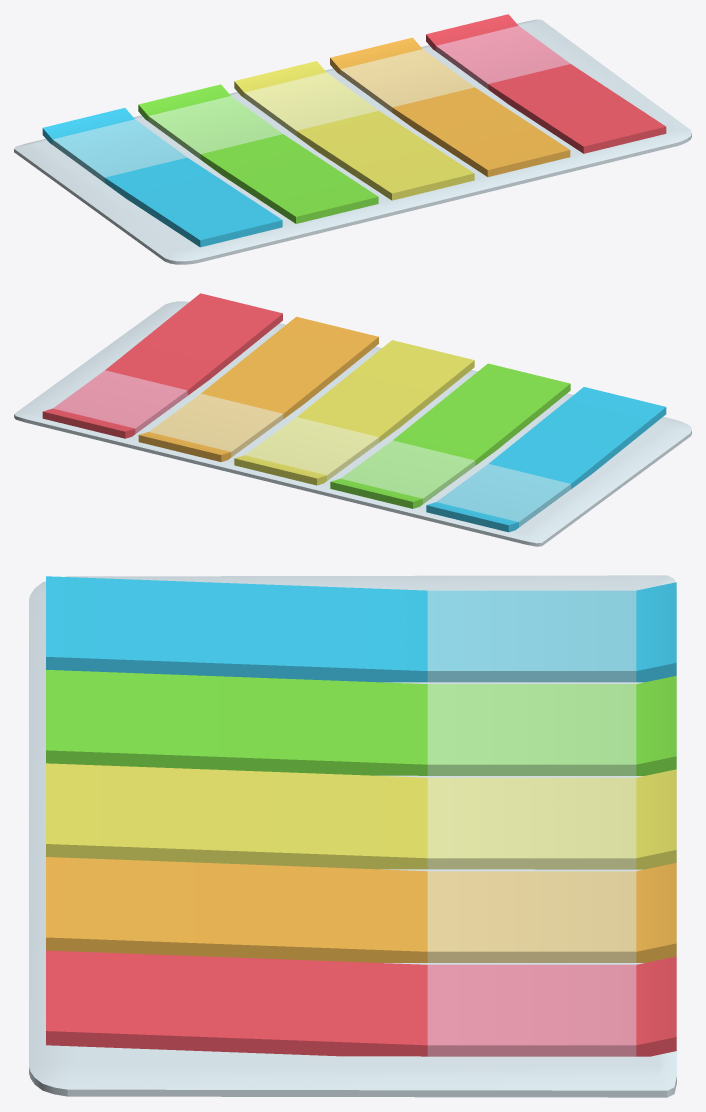
File: 인덱스포스트잇.fbx
The picture shows the model from 3 angles, top to bottom: view 1: azimuth 30°, elevation 25°; view 2: azimuth 150°, elevation 25°; view 3: azimuth 270°, elevation 25°; orthographic projection. The views are drawn at different scales.
Visible parts, largest first — view 1: stickers_small; view 2: stickers_small; view 3: stickers_small.
Part boxes in pixels (left/top/right/bottom): stickers_small: left=14, top=14, right=691, bottom=264; stickers_small: left=14, top=293, right=691, bottom=546; stickers_small: left=29, top=575, right=676, bottom=1097.
Bounding box in the file's own units: 845 × 30.46 × 449.
